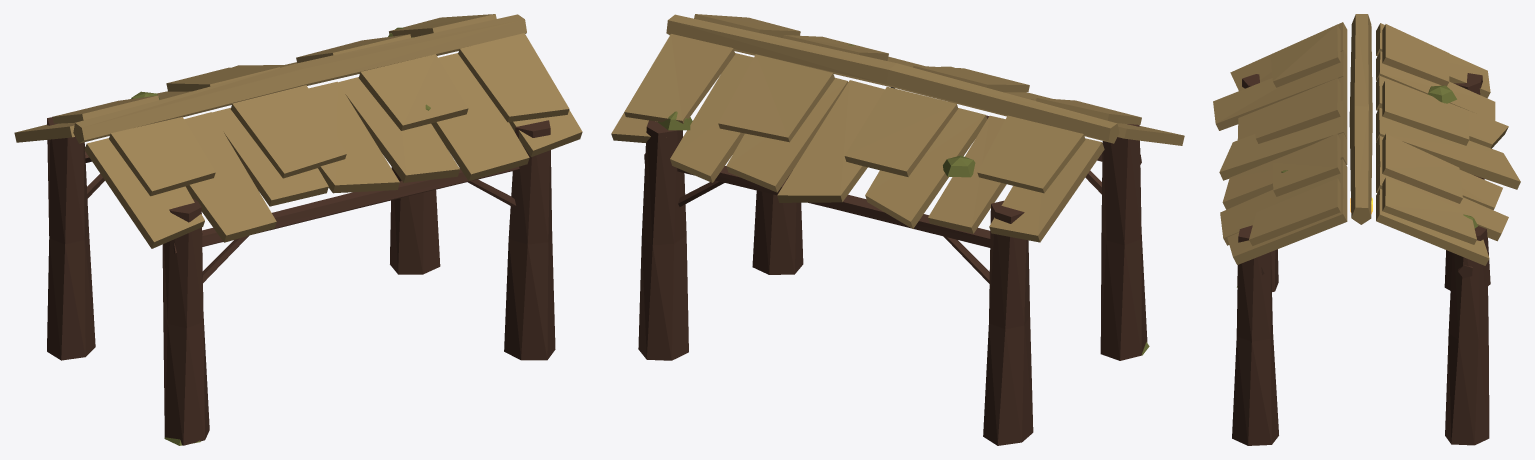
The model's file is CP_MarshShelter.fbx.
3 renders of one model, left to right at view 1: azimuth 30°, elevation 25°; view 2: azimuth 150°, elevation 25°; view 3: azimuth 270°, elevation 25°, orthographic. The views are drawn at different scales.
Visible parts, largest first — view 1: CP_MarshShelter_Roof, CP_MarshShelter_Posts; view 2: CP_MarshShelter_Roof, CP_MarshShelter_Posts, CP_MarshShelter_Moss; view 3: CP_MarshShelter_Roof, CP_MarshShelter_Posts, CP_MarshShelter_Moss.
Boxes of the visible parts, left/top/right/bottom form: CP_MarshShelter_Roof: left=14, top=14, right=582, bottom=248; CP_MarshShelter_Posts: left=47, top=117, right=555, bottom=445; CP_MarshShelter_Roof: left=611, top=14, right=1184, bottom=242; CP_MarshShelter_Posts: left=638, top=115, right=1147, bottom=445; CP_MarshShelter_Moss: left=658, top=44, right=1149, bottom=355; CP_MarshShelter_Roof: left=1213, top=14, right=1520, bottom=265; CP_MarshShelter_Posts: left=1232, top=73, right=1490, bottom=445; CP_MarshShelter_Moss: left=1237, top=85, right=1477, bottom=287.
Size of the model in its own units: 18 by 11 by 12.
